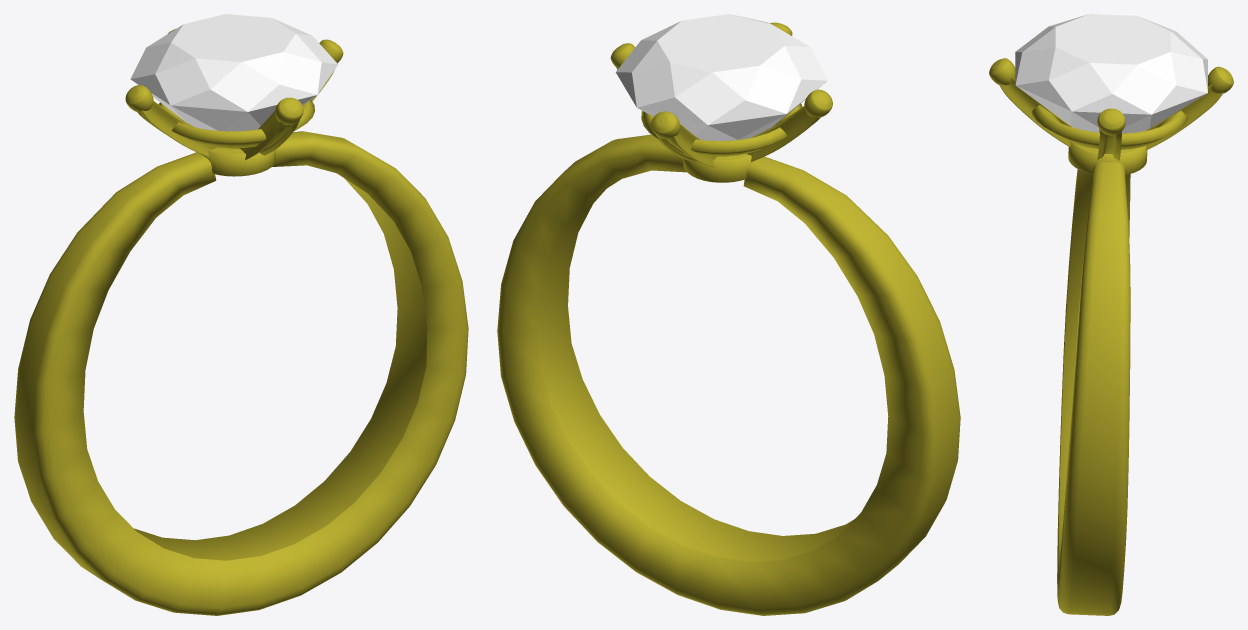
File: weadingRing.glb
3 views of the same model, side by side, from view 1: azimuth 30°, elevation 25°; view 2: azimuth 150°, elevation 25°; view 3: azimuth 270°, elevation 25° (orthographic). The views are drawn at different scales.
Visible parts, largest first — view 1: Ring; view 2: Ring; view 3: Ring.
Boxes of the visible parts, x1,y1,x2,y2 form: Ring: (14, 14, 468, 615); Ring: (497, 14, 960, 615); Ring: (989, 14, 1233, 615).
Size of the model in its own units: 2.58 by 3.18 by 1.27.
